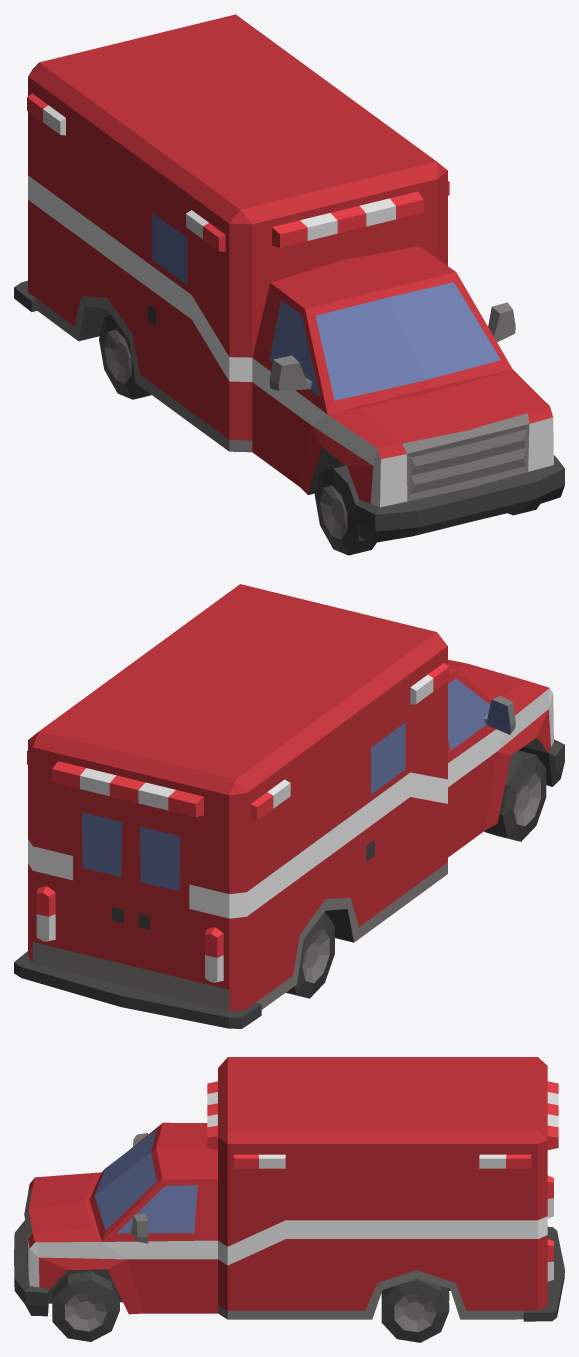
File: car-firefighter-pickup.fbx
The picture shows the model from 3 angles, top to bottom: view 1: azimuth 30°, elevation 25°; view 2: azimuth 150°, elevation 25°; view 3: azimuth 270°, elevation 25°; orthographic projection. The views are drawn at different scales.
Parts seen in each view (by area): view 1: car-firefighter-pickup-base, car-firefighter-pickup-wheel_FR, car-firefighter-pickup-wheel_BR; view 2: car-firefighter-pickup-base, car-firefighter-pickup-wheel_FR, car-firefighter-pickup-wheel_BR; view 3: car-firefighter-pickup-base, car-firefighter-pickup-wheel_FL, car-firefighter-pickup-wheel_BL.
Part boxes in pixels (box(x1,y1,x2,y2)): car-firefighter-pickup-base: box(14, 14, 564, 543); car-firefighter-pickup-wheel_FR: box(314, 465, 376, 555); car-firefighter-pickup-wheel_BR: box(99, 315, 151, 399); car-firefighter-pickup-base: box(14, 584, 564, 1028); car-firefighter-pickup-wheel_FR: box(484, 750, 546, 841); car-firefighter-pickup-wheel_BR: box(286, 912, 334, 998); car-firefighter-pickup-base: box(14, 1057, 564, 1321); car-firefighter-pickup-wheel_FL: box(52, 1271, 119, 1341); car-firefighter-pickup-wheel_BL: box(381, 1279, 449, 1342).
Size of the model in its own units: 2.43 by 2.66 by 6.24.
